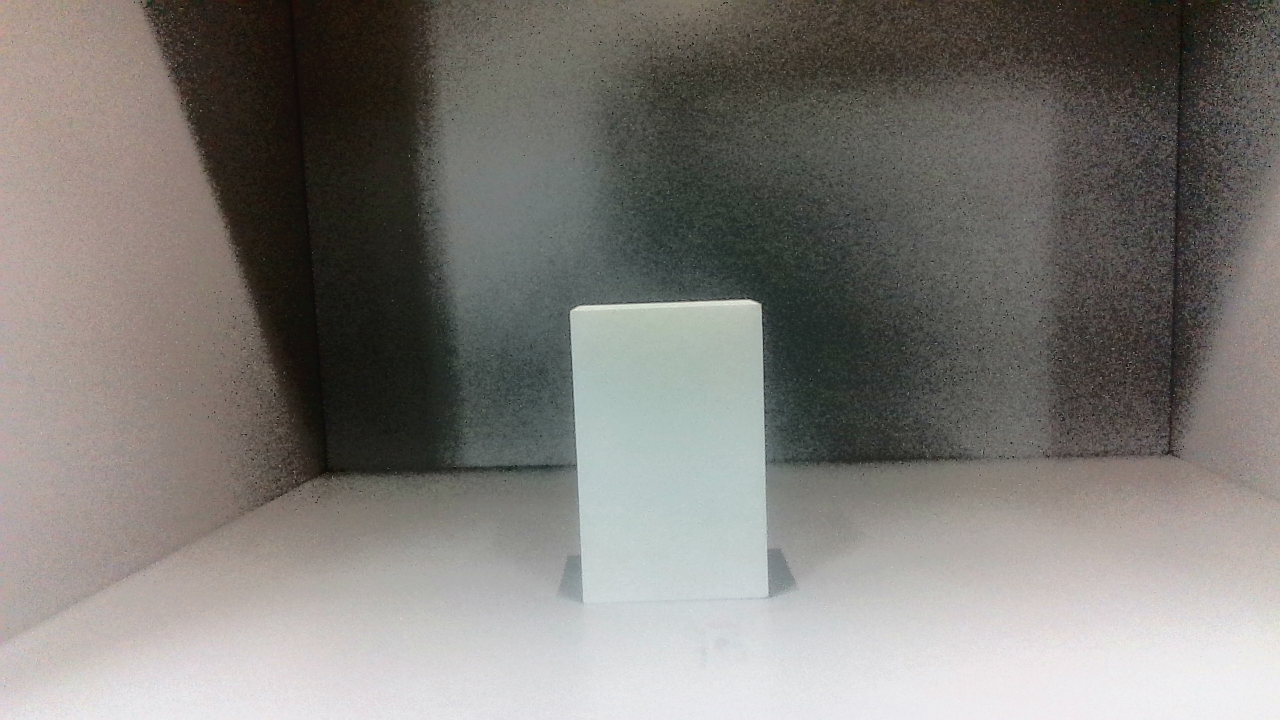Retangulo: (570, 300, 769, 602)
